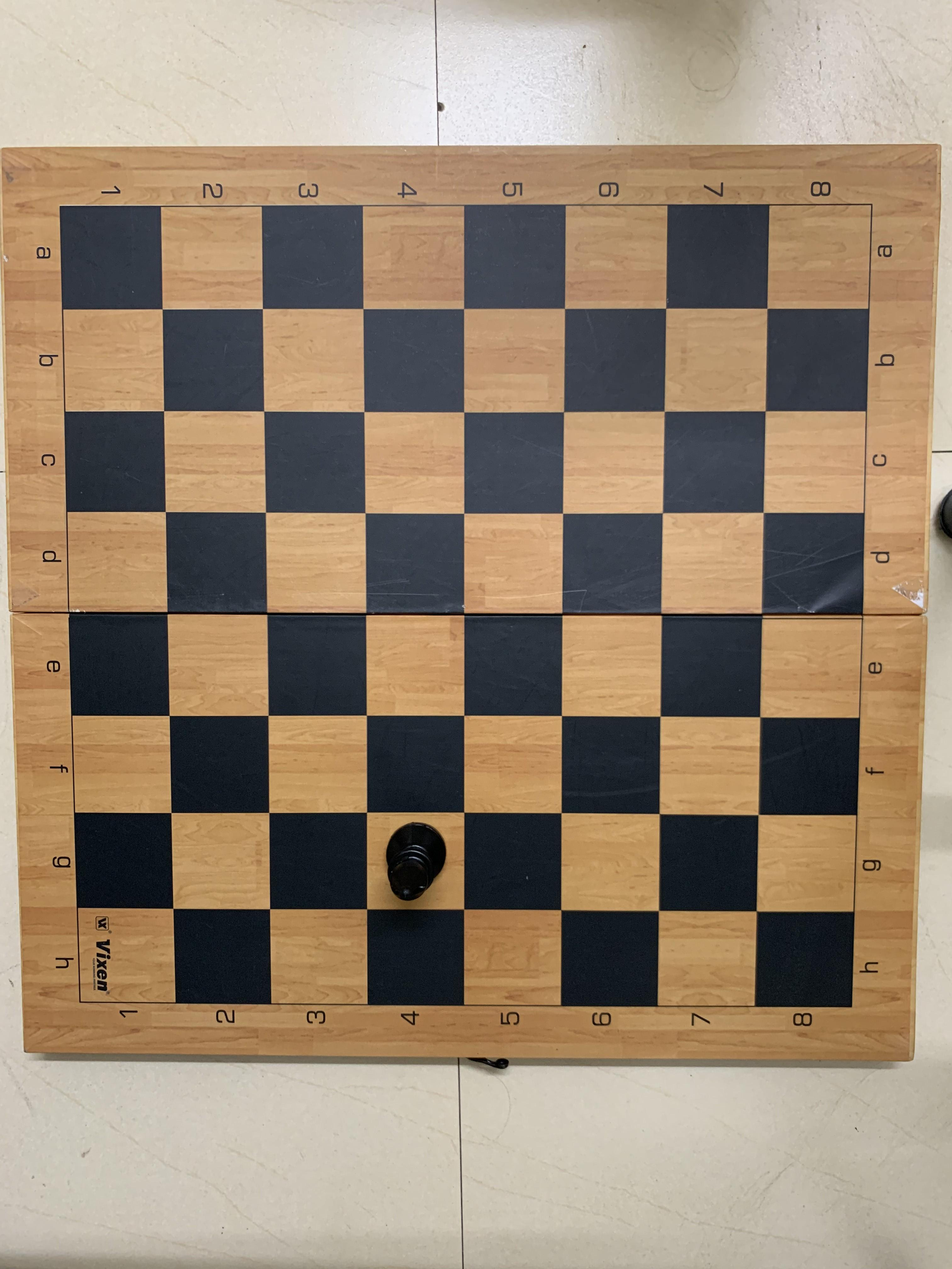black_bishop: (365, 813, 471, 917)
